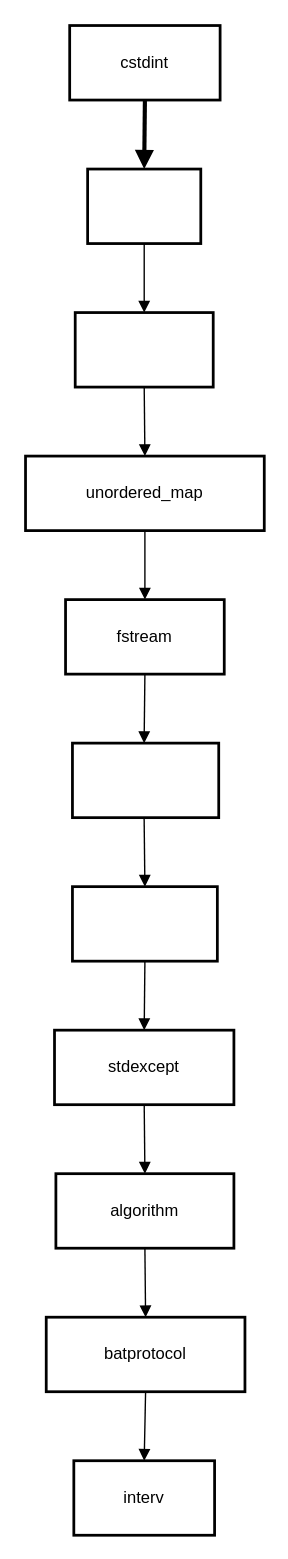
Image size: 288x1559. Some labels were removed from this diagram. Here are the shapes that lost their labels. From the top down, the centre of each, then its label:
At [143,205]: "list".
At [143,349]: "string".
At [144,779]: "vector".
At [144,923]: "cmath".
